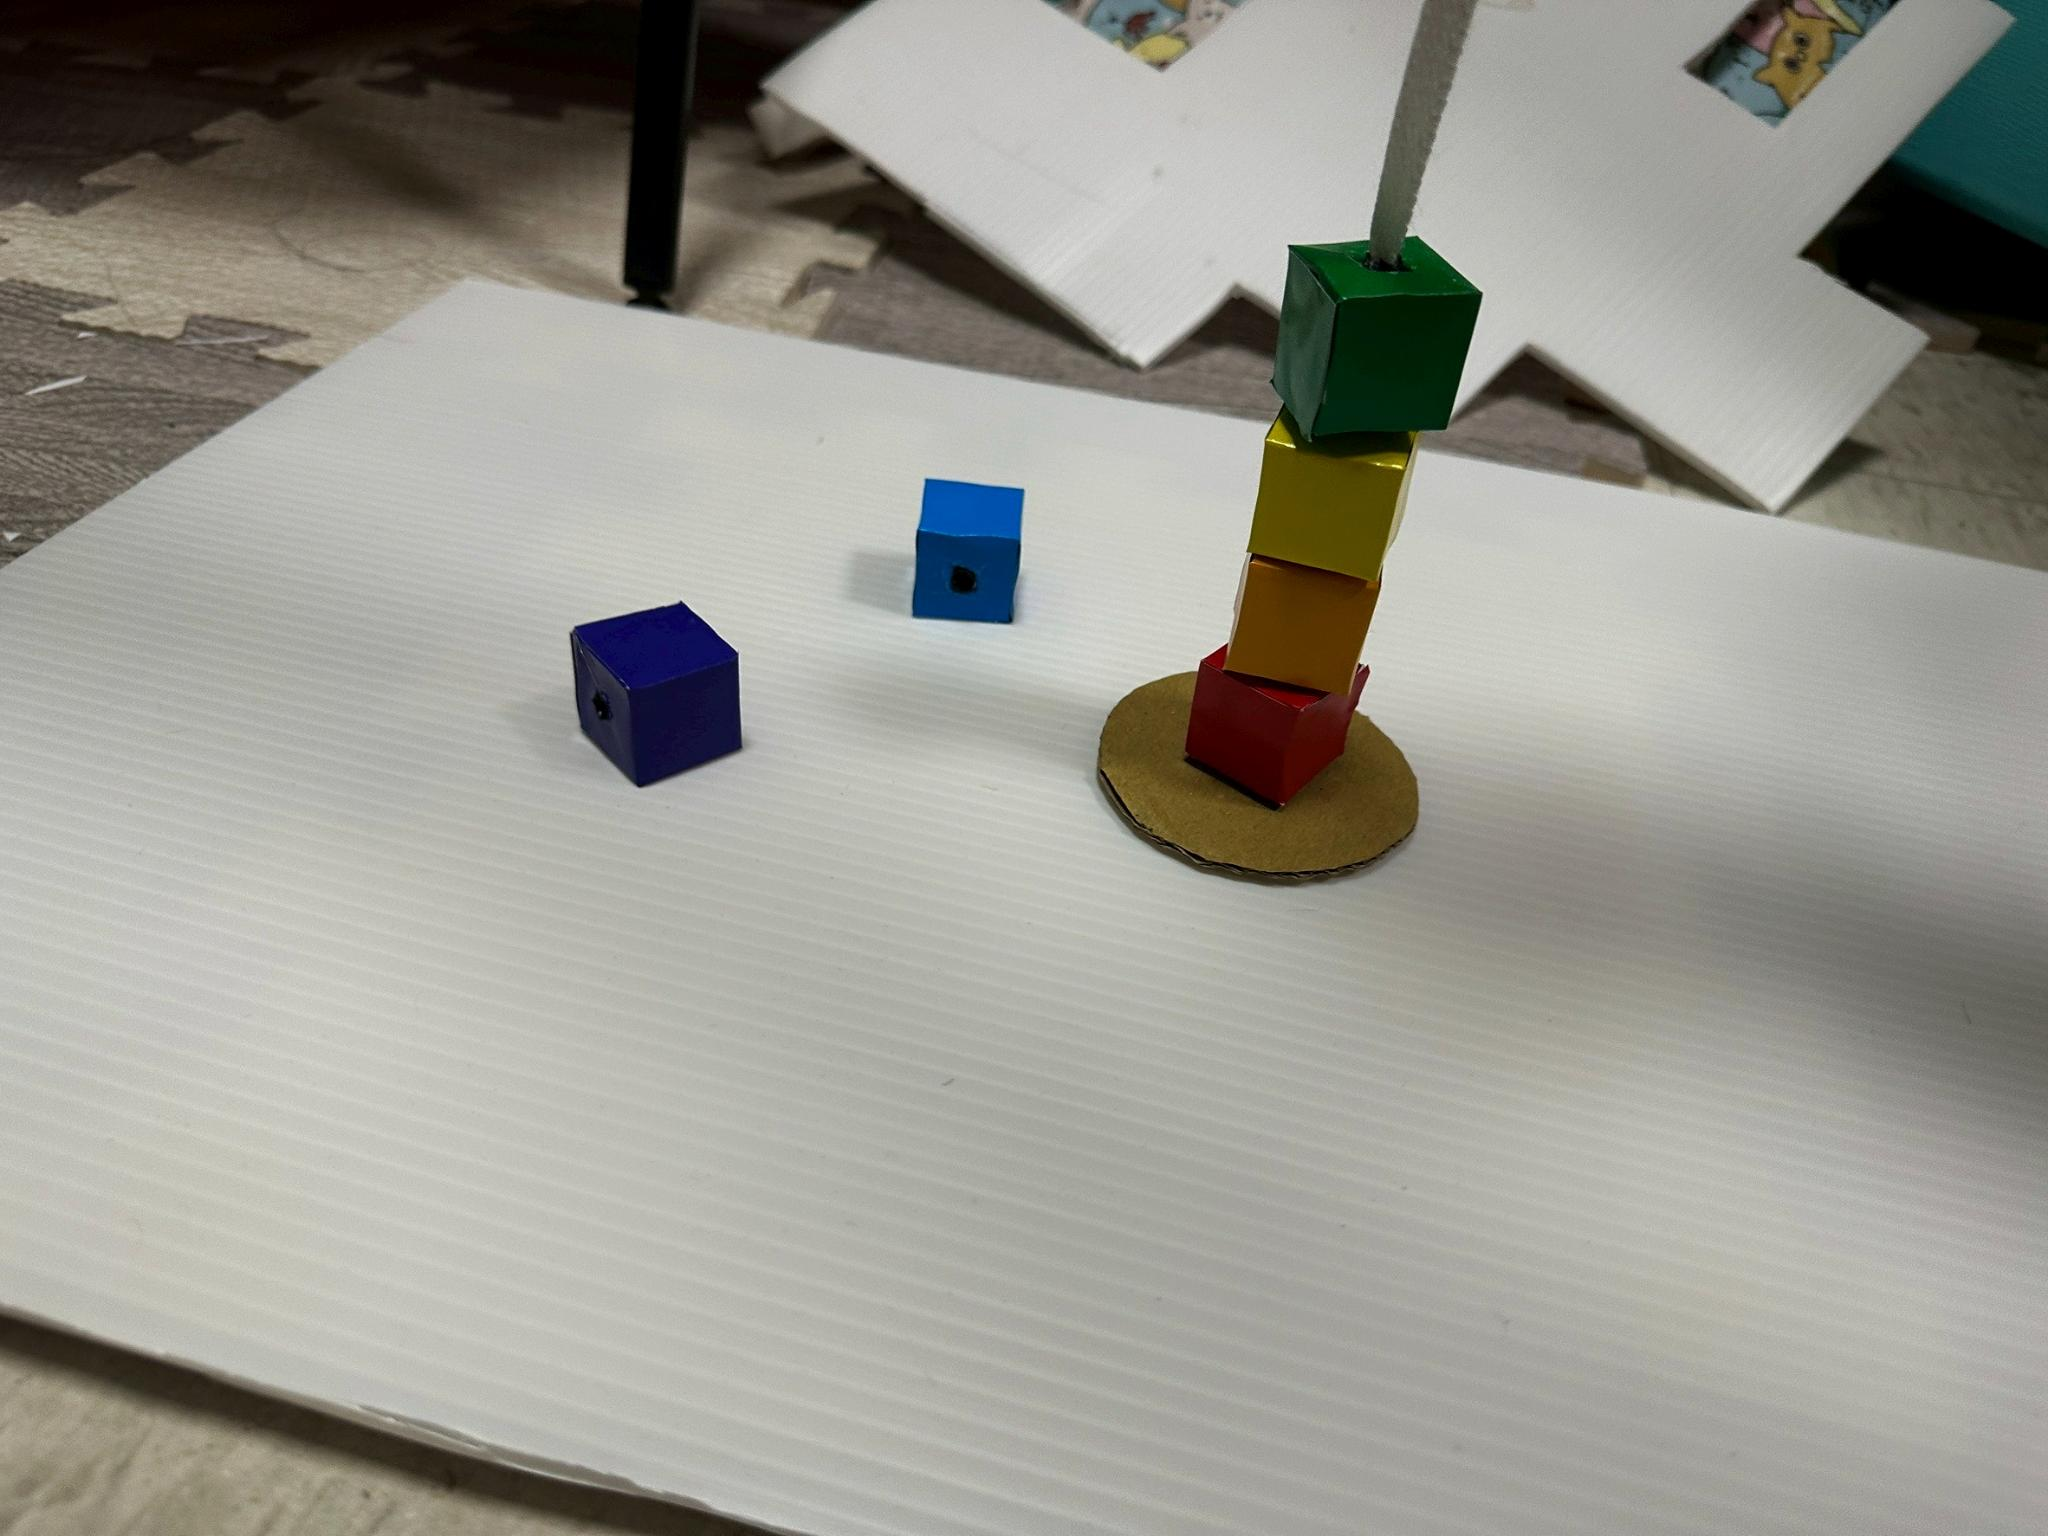base: (1274, 237, 1480, 439), (572, 603, 740, 786), (1185, 644, 1371, 807), (1250, 408, 1417, 584), (1227, 555, 1379, 691), (913, 479, 1022, 623)
